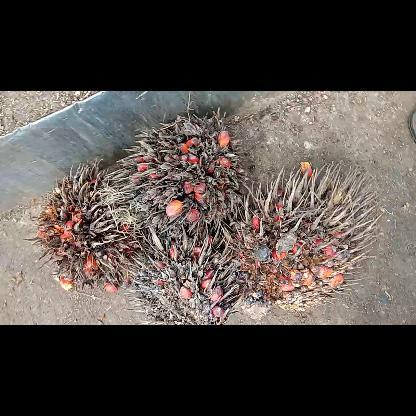Terlalu masak: (215, 155, 383, 313), (22, 154, 144, 298), (107, 108, 247, 230), (124, 223, 250, 324)
